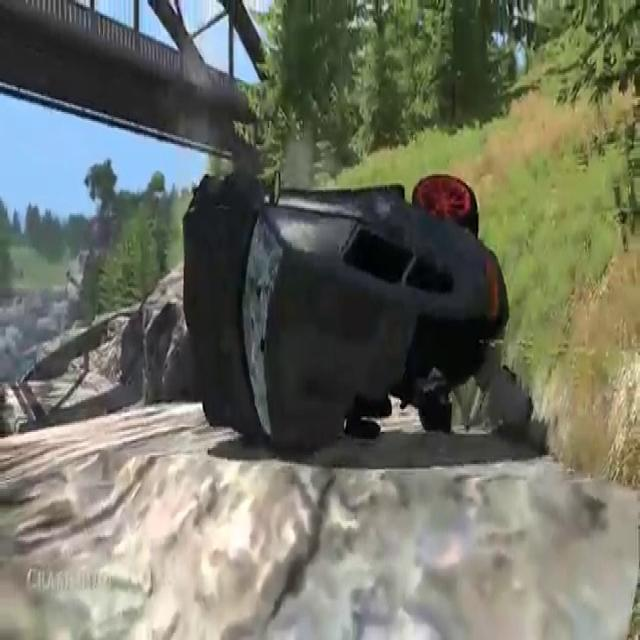severe: (178, 155, 511, 465)
